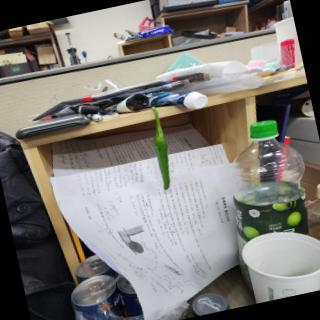Cabai Hijau: (141, 86, 193, 197)
